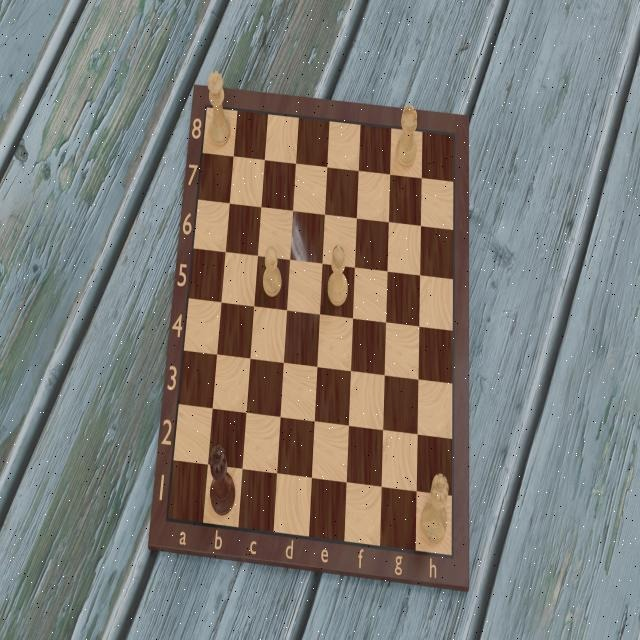black-king: (209, 450, 238, 516)
white-bishop: (324, 240, 350, 311)
white-king: (421, 466, 451, 546)
white-pawn: (261, 243, 286, 305)
white-queen: (206, 68, 232, 151)
white-rook: (396, 105, 418, 171)
